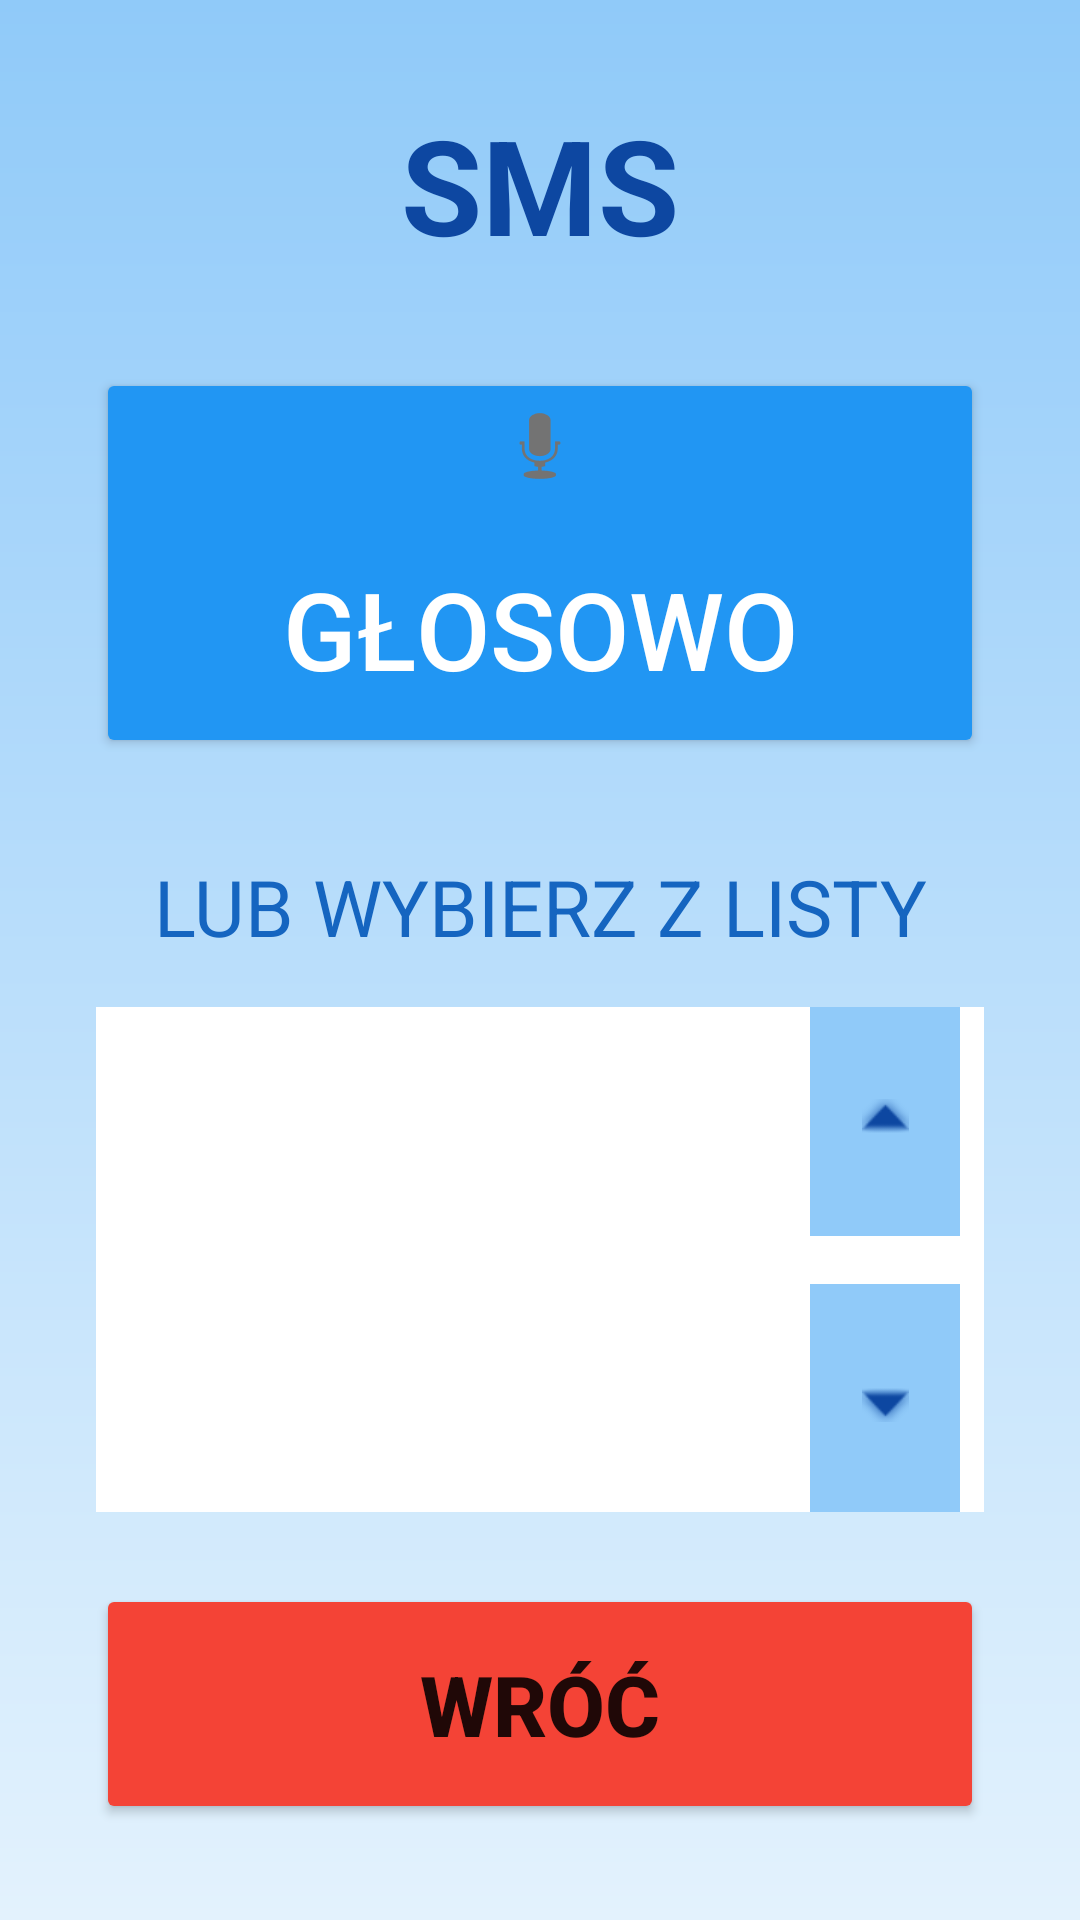

Point at icon controls on the screen. Image size 1080px x 1920px, points as (x,y).
Przewiń w dół: (885,1398)
Przewiń w górę: (885,1121)
